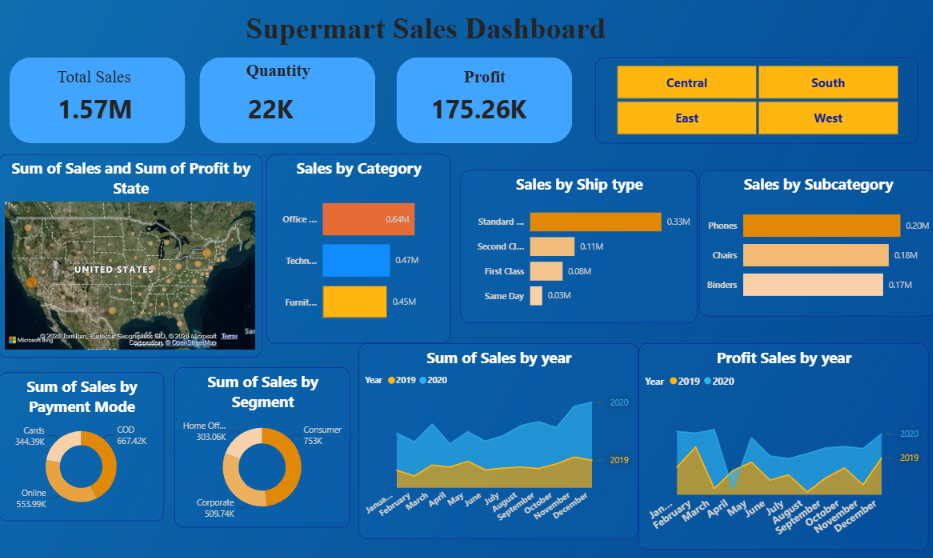

What the dashboard file says about the page in this screenshot:
{"tool":"powerbi","page":{"name":"Page 1","canvas":[1340,800],"ordinal":0},"visuals":[{"type":"clusteredBarChart","title":"Sales by Category","fields":{"Category":["SuperStore_Sales_Dataset.Category"],"Y":["Sum(SuperStore_Sales_Dataset.Sales)"]},"box":[382.9,221.4,262.9,270],"z":0},{"type":"clusteredBarChart","title":"Sales by Subcategory","fields":{"Category":["SuperStore_Sales_Dataset.Sub-Category"],"Y":["Sum(SuperStore_Sales_Dataset.Sales)"]},"box":[1001.4,244.3,338.6,208.6],"z":1000},{"type":"clusteredBarChart","title":"Sales by Ship type","fields":{"Category":["SuperStore_Sales_Dataset.Ship Mode"],"Y":["Sum(SuperStore_Sales_Dataset.Sales)"]},"box":[660,244.3,338.6,218.6],"z":2000},{"type":"stackedAreaChart","title":"Sum of Sales by year","fields":{"Y":["Sum(SuperStore_Sales_Dataset.Sales)"],"Category":["SuperStore_Sales_Dataset.Order Date.Variation.Date Hierarchy.Month","SuperStore_Sales_Dataset.Order Date.Variation.Date Hierarchy.Day"],"Series":["SuperStore_Sales_Dataset.Order Date.Variation.Date Hierarchy.Year"]},"box":[514.3,491.4,400,280],"z":3000},{"type":"stackedAreaChart","title":"Profit  Sales by year","fields":{"Category":["SuperStore_Sales_Dataset.Order Date.Variation.Date Hierarchy.Month","SuperStore_Sales_Dataset.Order Date.Variation.Date Hierarchy.Day"],"Series":["SuperStore_Sales_Dataset.Order Date.Variation.Date Hierarchy.Year"],"Y":["Sum(SuperStore_Sales_Dataset.Profit)"]},"box":[914.3,491.4,414.3,295.7],"z":4000},{"type":"map","fields":{"Category":["SuperStore_Sales_Dataset.State"],"Size":["Sum(SuperStore_Sales_Dataset.Sales)"]},"box":[0,221.4,377.1,290],"z":5000},{"type":"donutChart","fields":{"Y":["Sum(SuperStore_Sales_Dataset.Sales)"],"Category":["SuperStore_Sales_Dataset.Payment Mode"]},"box":[0,532.9,237.1,212.9],"z":6000},{"type":"donutChart","fields":{"Category":["SuperStore_Sales_Dataset.Segment"],"Y":["Sum(SuperStore_Sales_Dataset.Sales)"]},"box":[251.4,525.7,251.4,228.6],"z":7000},{"type":"slicer","fields":{"Values":["SuperStore_Sales_Dataset.Region"]},"box":[852.9,82.9,461.4,122.9],"z":8000},{"type":"textbox","box":[348.6,11.4,842.9,71.4],"z":9000},{"type":"shape","box":[15.7,82.9,251.4,122.9],"z":10000},{"type":"cardVisual","fields":{"Data":["Sum(SuperStore_Sales_Dataset.Sales)"]},"box":[55.7,102.9,211.4,102.9],"z":11000},{"type":"textbox","box":[78.6,92.9,135.7,61.4],"z":12000},{"type":"shape","box":[287.1,82.9,251.4,122.9],"z":13000},{"type":"shape","box":[568.6,82.9,251.4,122.9],"z":14000},{"type":"cardVisual","fields":{"Data":["Sum(SuperStore_Sales_Dataset.Profit)"]},"box":[588.6,102.9,211.4,102.9],"z":15000},{"type":"cardVisual","fields":{"Data":["Sum(SuperStore_Sales_Dataset.Quantity)"]},"box":[327.1,102.9,211.4,102.9],"z":16000},{"type":"textbox","box":[348.6,82.9,167.1,61.4],"z":17000},{"type":"textbox","box":[660,92.3,96.9,61.5],"z":18000}]}

Visuals, with their boxes in screenshot pixels (x1, y1, x2, y2), scaled from the page's 1340x800 canvas onto the 933x558 screenshot:
"Sales by Category" clusteredBarChart: pyautogui.locateOnScreen(267, 154, 450, 343)
"Sales by Subcategory" clusteredBarChart: pyautogui.locateOnScreen(697, 170, 932, 316)
"Sales by Ship type" clusteredBarChart: pyautogui.locateOnScreen(460, 170, 695, 323)
"Sum of Sales by year" stackedAreaChart: pyautogui.locateOnScreen(358, 343, 637, 538)
"Profit  Sales by year" stackedAreaChart: pyautogui.locateOnScreen(637, 343, 925, 549)
map - SuperStore_Sales_Dataset.State x Sum(SuperStore_Sales_Dataset.Sales): pyautogui.locateOnScreen(0, 154, 263, 357)
donutChart - Sum(SuperStore_Sales_Dataset.Sales) x SuperStore_Sales_Dataset.Payment Mode: pyautogui.locateOnScreen(0, 372, 165, 520)
donutChart - SuperStore_Sales_Dataset.Segment x Sum(SuperStore_Sales_Dataset.Sales): pyautogui.locateOnScreen(175, 367, 350, 526)
slicer - SuperStore_Sales_Dataset.Region: pyautogui.locateOnScreen(594, 58, 915, 144)
textbox: pyautogui.locateOnScreen(243, 8, 830, 58)
shape: pyautogui.locateOnScreen(11, 58, 186, 144)
cardVisual - Sum(SuperStore_Sales_Dataset.Sales): pyautogui.locateOnScreen(39, 72, 186, 144)
textbox: pyautogui.locateOnScreen(55, 65, 149, 108)
shape: pyautogui.locateOnScreen(200, 58, 375, 144)
shape: pyautogui.locateOnScreen(396, 58, 571, 144)
cardVisual - Sum(SuperStore_Sales_Dataset.Profit): pyautogui.locateOnScreen(410, 72, 557, 144)
cardVisual - Sum(SuperStore_Sales_Dataset.Quantity): pyautogui.locateOnScreen(228, 72, 375, 144)
textbox: pyautogui.locateOnScreen(243, 58, 359, 101)
textbox: pyautogui.locateOnScreen(460, 64, 527, 107)
